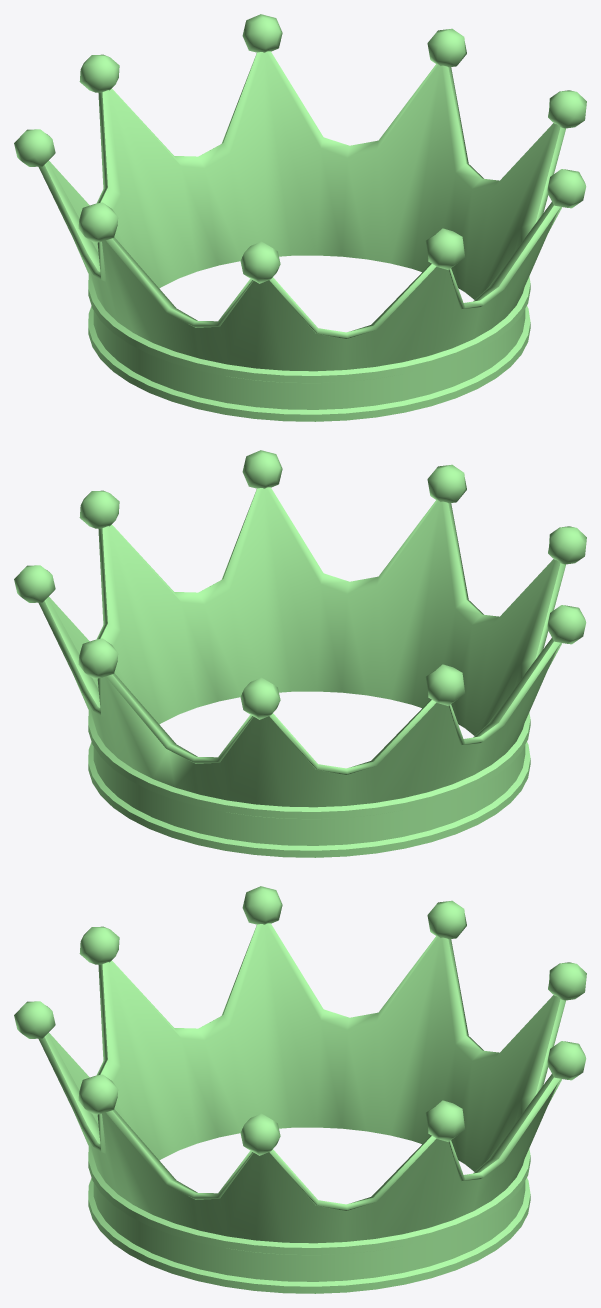
File: Hat_35_03.fbx
3 renders of one model, top to bottom at view 1: azimuth 30°, elevation 25°; view 2: azimuth 150°, elevation 25°; view 3: azimuth 270°, elevation 25°, orthographic.
Visible parts, largest first — view 1: Hat_35_03; view 2: Hat_35_03; view 3: Hat_35_03.
Boxes of the visible parts, x1,y1,x2,y2 form: Hat_35_03: (14,14,586,421); Hat_35_03: (14,450,586,857); Hat_35_03: (14,886,586,1293).
Bounding box in the file's own units: 48.35 × 18.62 × 47.64.
